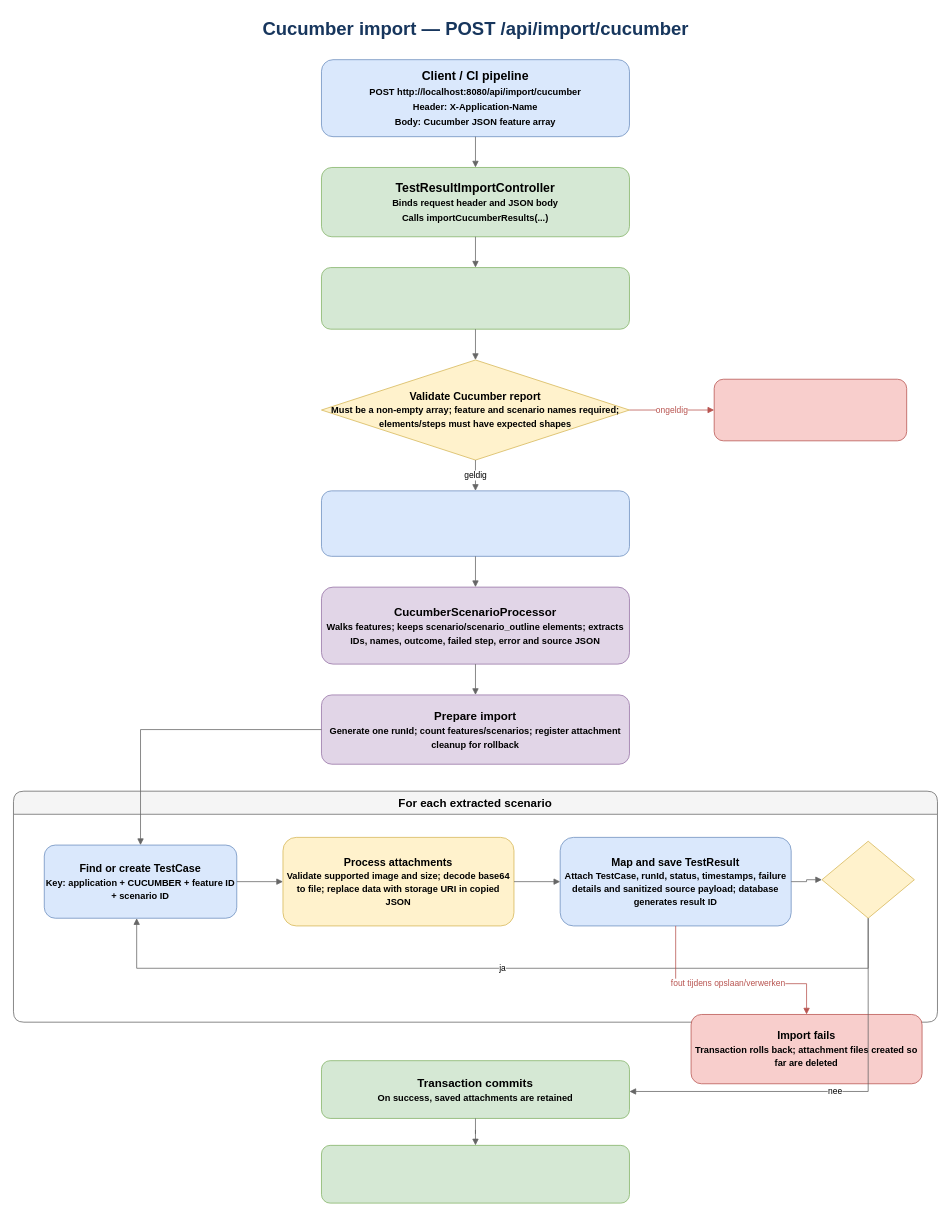
Image size: 951x1217. Some labels were removed from this diagram. Each missing label, with the centre of its shape:
Find or create Application Look up by application name; insert if not found: (x=475, y=523)
HTTP response ImportResponse: runId, featuresImported, scenariosImported: (x=475, y=1174)
Invalid input Throws validation exception; import stops: (x=810, y=409)
More scenarios?: (x=867, y=879)
TestResultImportService Starts transactional import; records receivedAt: (x=475, y=298)
